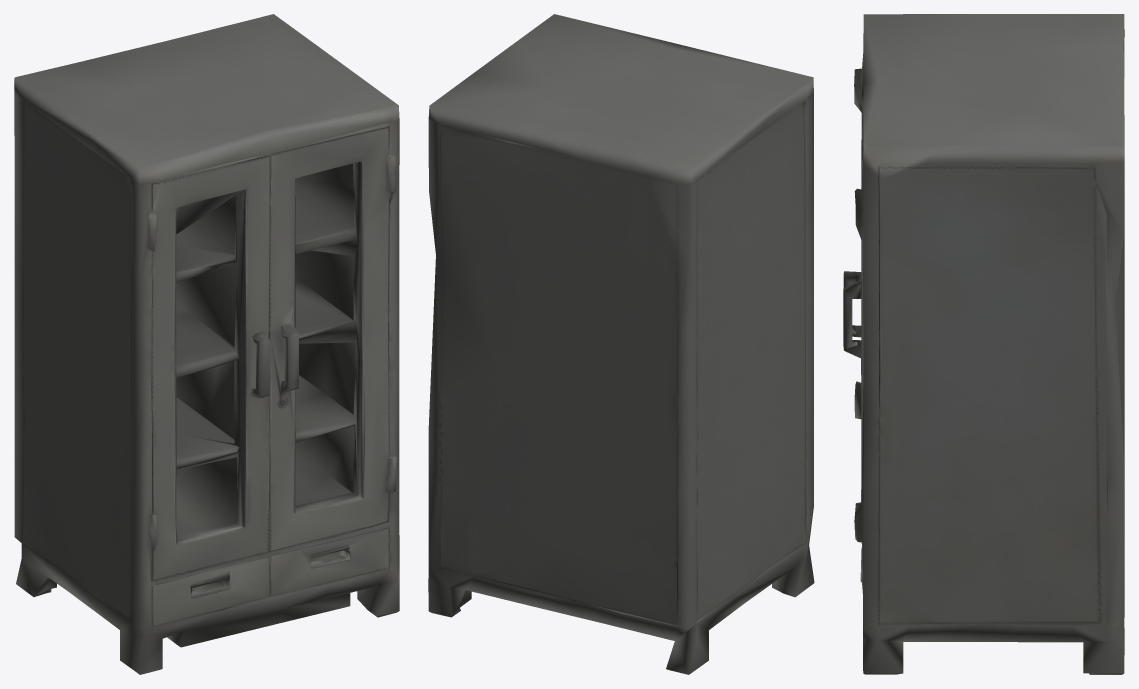
Rendered from ENV_ALL_097_v001_RAW.glb.glb.
3 views of the same model, side by side, from view 1: azimuth 30°, elevation 25°; view 2: azimuth 150°, elevation 25°; view 3: azimuth 270°, elevation 25° (orthographic). The views are drawn at different scales.
Parts seen in each view (by area): view 1: tripo_node_c3b826ab-5c08-41f3-9853-130ab45d65a5; view 2: tripo_node_c3b826ab-5c08-41f3-9853-130ab45d65a5; view 3: tripo_node_c3b826ab-5c08-41f3-9853-130ab45d65a5.
Part boxes in pixels (x1,y1,x2,y2): tripo_node_c3b826ab-5c08-41f3-9853-130ab45d65a5: (14,14,399,674); tripo_node_c3b826ab-5c08-41f3-9853-130ab45d65a5: (428,14,814,674); tripo_node_c3b826ab-5c08-41f3-9853-130ab45d65a5: (843,14,1124,674).
Bounding box in the file's own units: 0.5243 × 0.9814 × 0.4699.
Materials: 1 (1 with a texture image).
